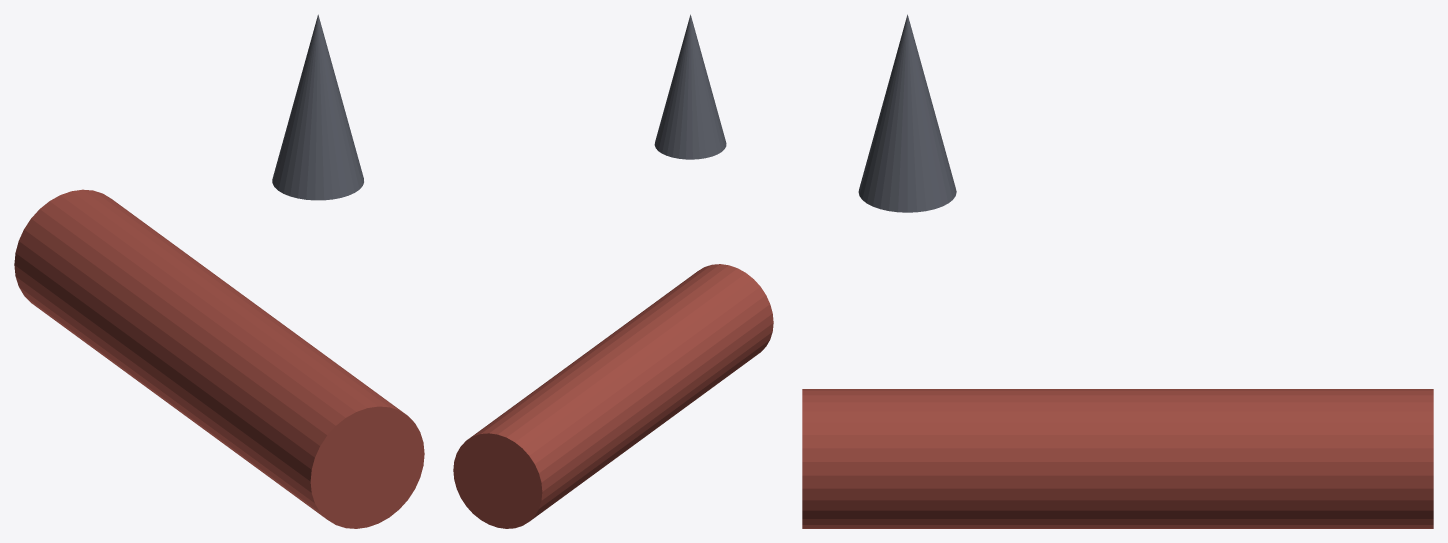
The model's file is SU_KrechetInterceptor_LOD2.glb.
3 views of the same model, side by side, from view 1: azimuth 30°, elevation 25°; view 2: azimuth 150°, elevation 25°; view 3: azimuth 270°, elevation 25° (orthographic). The views are drawn at different scales.
Parts seen in each view (by area): view 1: Cylinder, Cone; view 2: Cylinder, Cone; view 3: Cylinder, Cone.
Boxes of the visible parts, x1=… form: Cylinder: x1=14, y1=189, x2=424, y2=528; Cone: x1=272, y1=14, x2=363, y2=200; Cylinder: x1=453, y1=264, x2=773, y2=528; Cone: x1=654, y1=14, x2=726, y2=159; Cylinder: x1=802, y1=389, x2=1433, y2=528; Cone: x1=858, y1=14, x2=956, y2=212.
Bounding box in the file's own units: 1 × 4 × 4.5.
